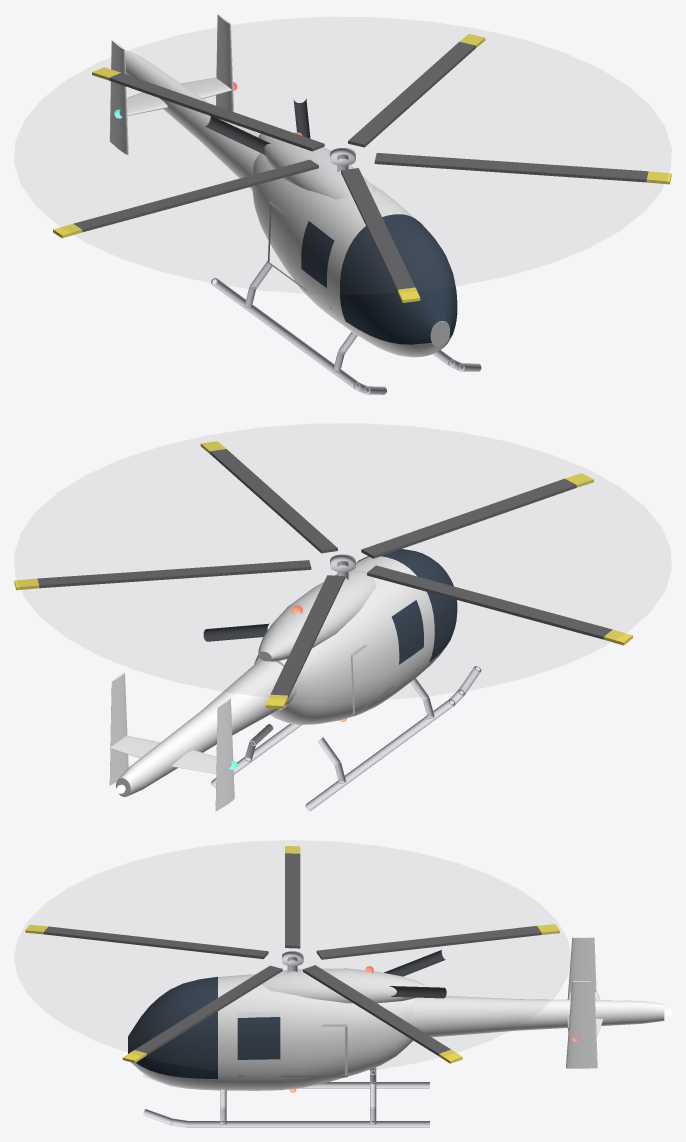
File: EXPL.glb
The picture shows the model from 3 angles, top to bottom: view 1: azimuth 30°, elevation 25°; view 2: azimuth 150°, elevation 25°; view 3: azimuth 270°, elevation 25°; orthographic projection. The views are drawn at different scales.
Visible parts, largest first — view 1: airframe, rotor; view 2: airframe, rotor; view 3: airframe, rotor.
Part boxes in pixels (x1,y1,x2,y2): airframe: (109,14,481,394); rotor: (53,34,671,302); airframe: (109,549,481,811); rotor: (14,441,632,708); airframe: (128,937,671,1127); rotor: (25,846,559,1063).
Bounding box in the file's own units: 10.3 × 3.16 × 12.16.
